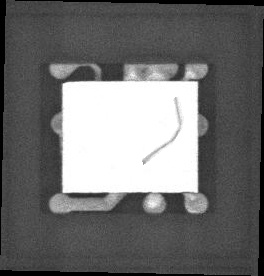DIE_INK: (136, 100, 175, 171)
